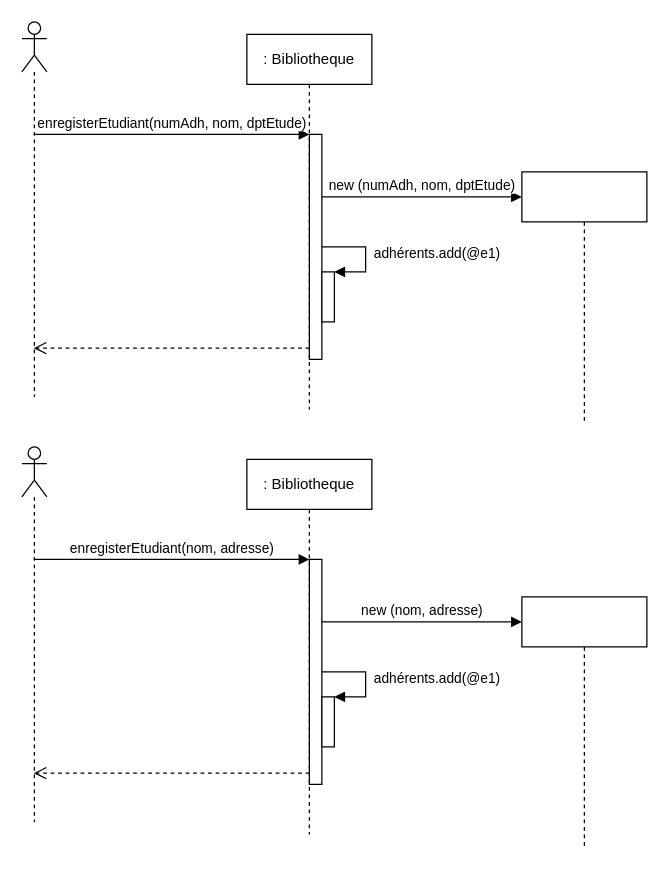
The diagram is 669 pixels wide and 869 high, and some of its shapes have lost their labels. Each missing label, with the box of its shape:
@e1 : Etudiant: (521, 171, 647, 422)
@e1 : Exterieur: (521, 596, 647, 847)
